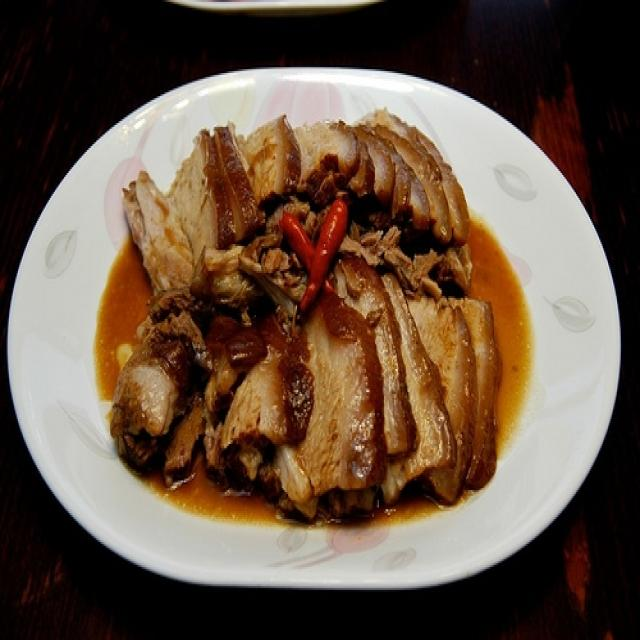牛肉菜式: (55, 94, 570, 573)
